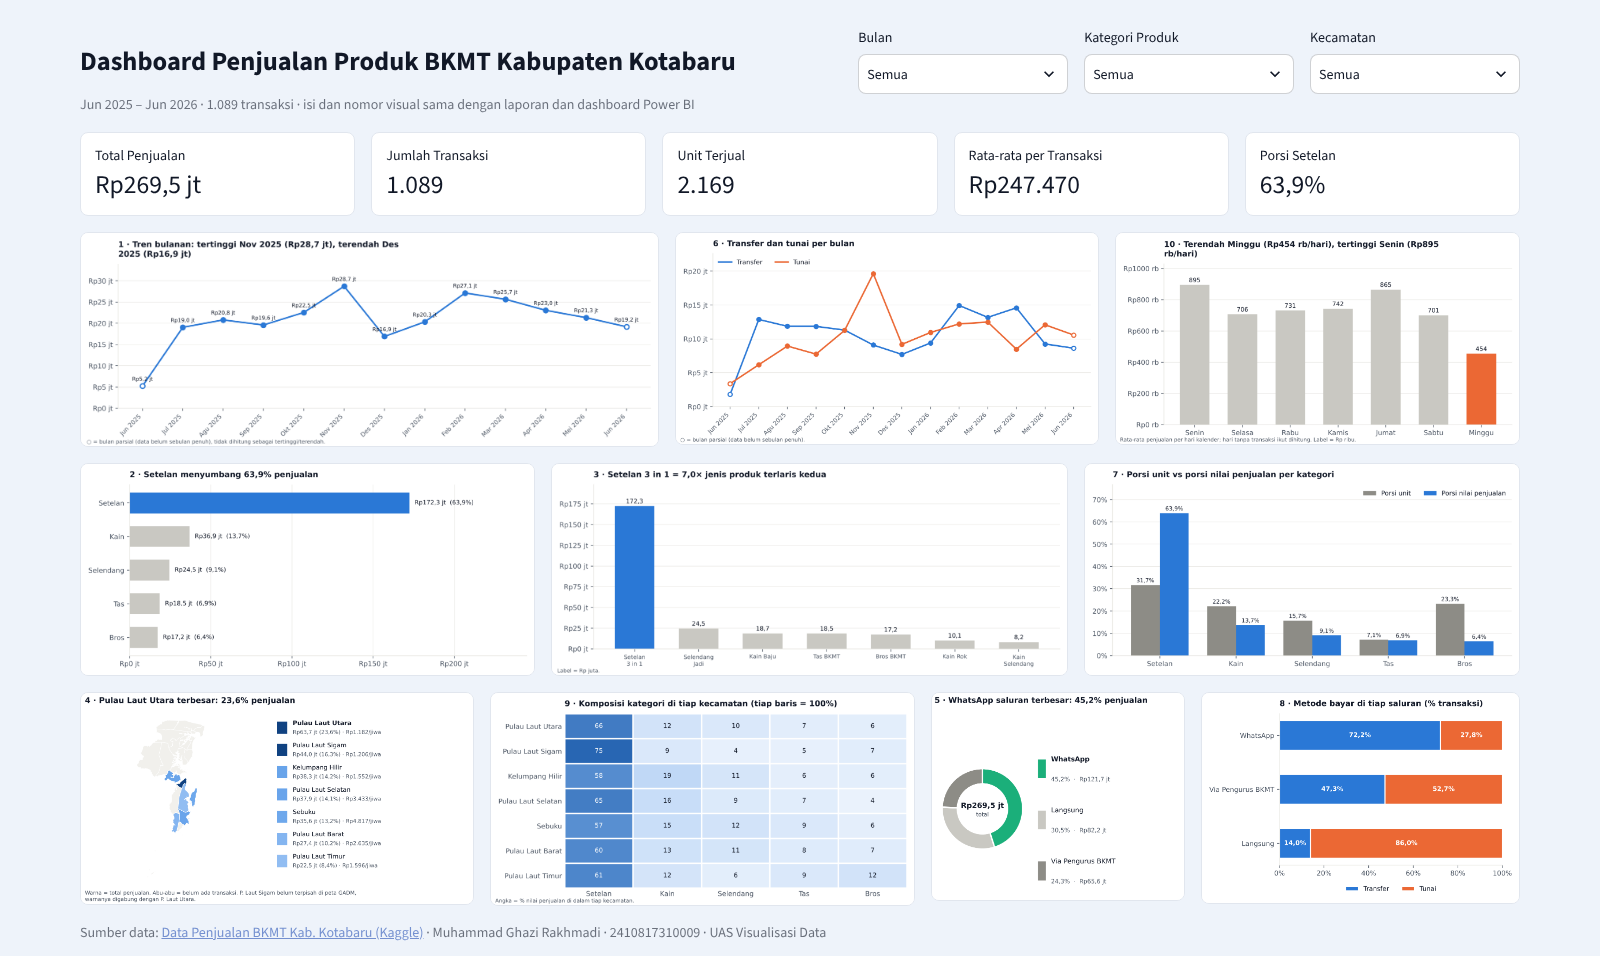

This screenshot's page, from the dashboard's own definition file:
{"tool":"powerbi","page":{"name":"Halaman 1","canvas":[1920,1080],"ordinal":0},"visuals":[{"type":"pythonVisual","fields":{"Values":["Penjualan.Kategori Produk","Penjualan.Total Penjualan"]},"box":[54.3,485.7,562.9,280],"z":0},{"type":"pythonVisual","fields":{"Values":["Kalender.Bulan","Kalender.Bulan Parsial","Penjualan.Total Penjualan"]},"box":[54.3,194.3,720,280],"z":1000},{"type":"pythonVisual","fields":{"Values":["Penjualan.Jenis Produk","Penjualan.Total Penjualan"]},"box":[632,486,680,280],"z":2000},{"type":"pythonVisual","fields":{"Values":["Penjualan.Kecamatan","Kecamatan.Nama Peta","Penjualan.Total Penjualan","Penjualan.Penduduk"]},"box":[54.3,778.6,480,280],"z":3000},{"type":"pythonVisual","fields":{"Values":["Penjualan.Saluran Penjualan","Penjualan.Total Penjualan"]},"box":[1124.3,778.6,341.4,280],"z":4000},{"type":"pythonVisual","fields":{"Values":["Kalender.Bulan","Kalender.Bulan Parsial","Penjualan.Metode Pembayaran","Penjualan.Total Penjualan"]},"box":[791.4,194.3,560,280],"z":5000},{"type":"pythonVisual","fields":{"Values":["Penjualan.Kategori Produk","Penjualan.Unit Terjual","Penjualan.Total Penjualan"]},"box":[1324.3,485.7,576,280],"z":6000},{"type":"pythonVisual","fields":{"Values":["Penjualan.Saluran Penjualan","Penjualan.Metode Pembayaran","Penjualan.Jumlah Transaksi"]},"box":[1476,778,424,280],"z":7000},{"type":"pythonVisual","fields":{"Values":["Kecamatan.Kecamatan","Penjualan.Kategori Produk","Penjualan.Total Penjualan"]},"box":[552,778,560,280],"z":8000},{"type":"pythonVisual","fields":{"Values":["Kalender.Hari","Penjualan.Penjualan per Hari"]},"box":[1364,194,536,280],"z":9000},{"type":"cardVisual","fields":{"Data":["Penjualan.Total Penjualan"]},"box":[54.3,85.7,366,90],"z":10000},{"type":"cardVisual","fields":{"Data":["Kalender.Jumlah Transaksi Teks"]},"box":[425.7,85.7,366,90],"z":11000},{"type":"cardVisual","fields":{"Data":["Kalender.Rata-rata per Transaksi"]},"box":[1181.4,85.7,366,90],"z":12000},{"type":"cardVisual","fields":{"Data":["Kalender.Porsi Setelan %"]},"box":[1554.3,85.7,345.7,90],"z":13000},{"type":"cardVisual","fields":{"Data":["Kalender.Unit Terjual Teks"]},"box":[804.3,85.7,366,90],"z":14000},{"type":"textbox","box":[54.3,20,1017.1,60],"z":15000},{"type":"slicer","fields":{"Values":["Kecamatan.Kecamatan"]},"box":[1647.1,20,252.9,60],"z":16000},{"type":"slicer","fields":{"Values":["Penjualan.Kategori Produk"]},"box":[1402.9,20,244.3,60],"z":17000},{"type":"slicer","fields":{"Values":["Kalender.Bulan"]},"box":[1158.6,20,244.3,60],"z":17001}]}

Visuals, with their boxes in screenshot pixels (x1, y1, x2, y2):
pythonVisual - Penjualan.Kategori Produk x Penjualan.Total Penjualan: (x1=172, y1=473, x2=618, y2=694)
pythonVisual - Kalender.Bulan x Kalender.Bulan Parsial: (x1=172, y1=242, x2=743, y2=463)
pythonVisual - Penjualan.Jenis Produk x Penjualan.Total Penjualan: (x1=630, y1=473, x2=1169, y2=695)
pythonVisual - Penjualan.Kecamatan x Kecamatan.Nama Peta: (x1=172, y1=705, x2=553, y2=927)
pythonVisual - Penjualan.Saluran Penjualan x Penjualan.Total Penjualan: (x1=1020, y1=705, x2=1291, y2=927)
pythonVisual - Kalender.Bulan x Kalender.Bulan Parsial: (x1=756, y1=242, x2=1200, y2=463)
pythonVisual - Penjualan.Kategori Produk x Penjualan.Unit Terjual: (x1=1179, y1=473, x2=1599, y2=694)
pythonVisual - Penjualan.Saluran Penjualan x Penjualan.Metode Pembayaran: (x1=1299, y1=704, x2=1599, y2=926)
pythonVisual - Kecamatan.Kecamatan x Penjualan.Kategori Produk: (x1=567, y1=704, x2=1011, y2=926)
pythonVisual - Kalender.Hari x Penjualan.Penjualan per Hari: (x1=1210, y1=241, x2=1599, y2=463)
cardVisual - Penjualan.Total Penjualan: (x1=172, y1=155, x2=462, y2=227)
cardVisual - Kalender.Jumlah Transaksi Teks: (x1=467, y1=155, x2=757, y2=227)
cardVisual - Kalender.Rata-rata per Transaksi: (x1=1066, y1=155, x2=1356, y2=227)
cardVisual - Kalender.Porsi Setelan %: (x1=1361, y1=155, x2=1599, y2=227)
cardVisual - Kalender.Unit Terjual Teks: (x1=767, y1=155, x2=1057, y2=227)
textbox: (x1=172, y1=103, x2=978, y2=151)
slicer - Kecamatan.Kecamatan: (x1=1435, y1=103, x2=1599, y2=151)
slicer - Penjualan.Kategori Produk: (x1=1241, y1=103, x2=1435, y2=151)
slicer - Kalender.Bulan: (x1=1048, y1=103, x2=1241, y2=151)
